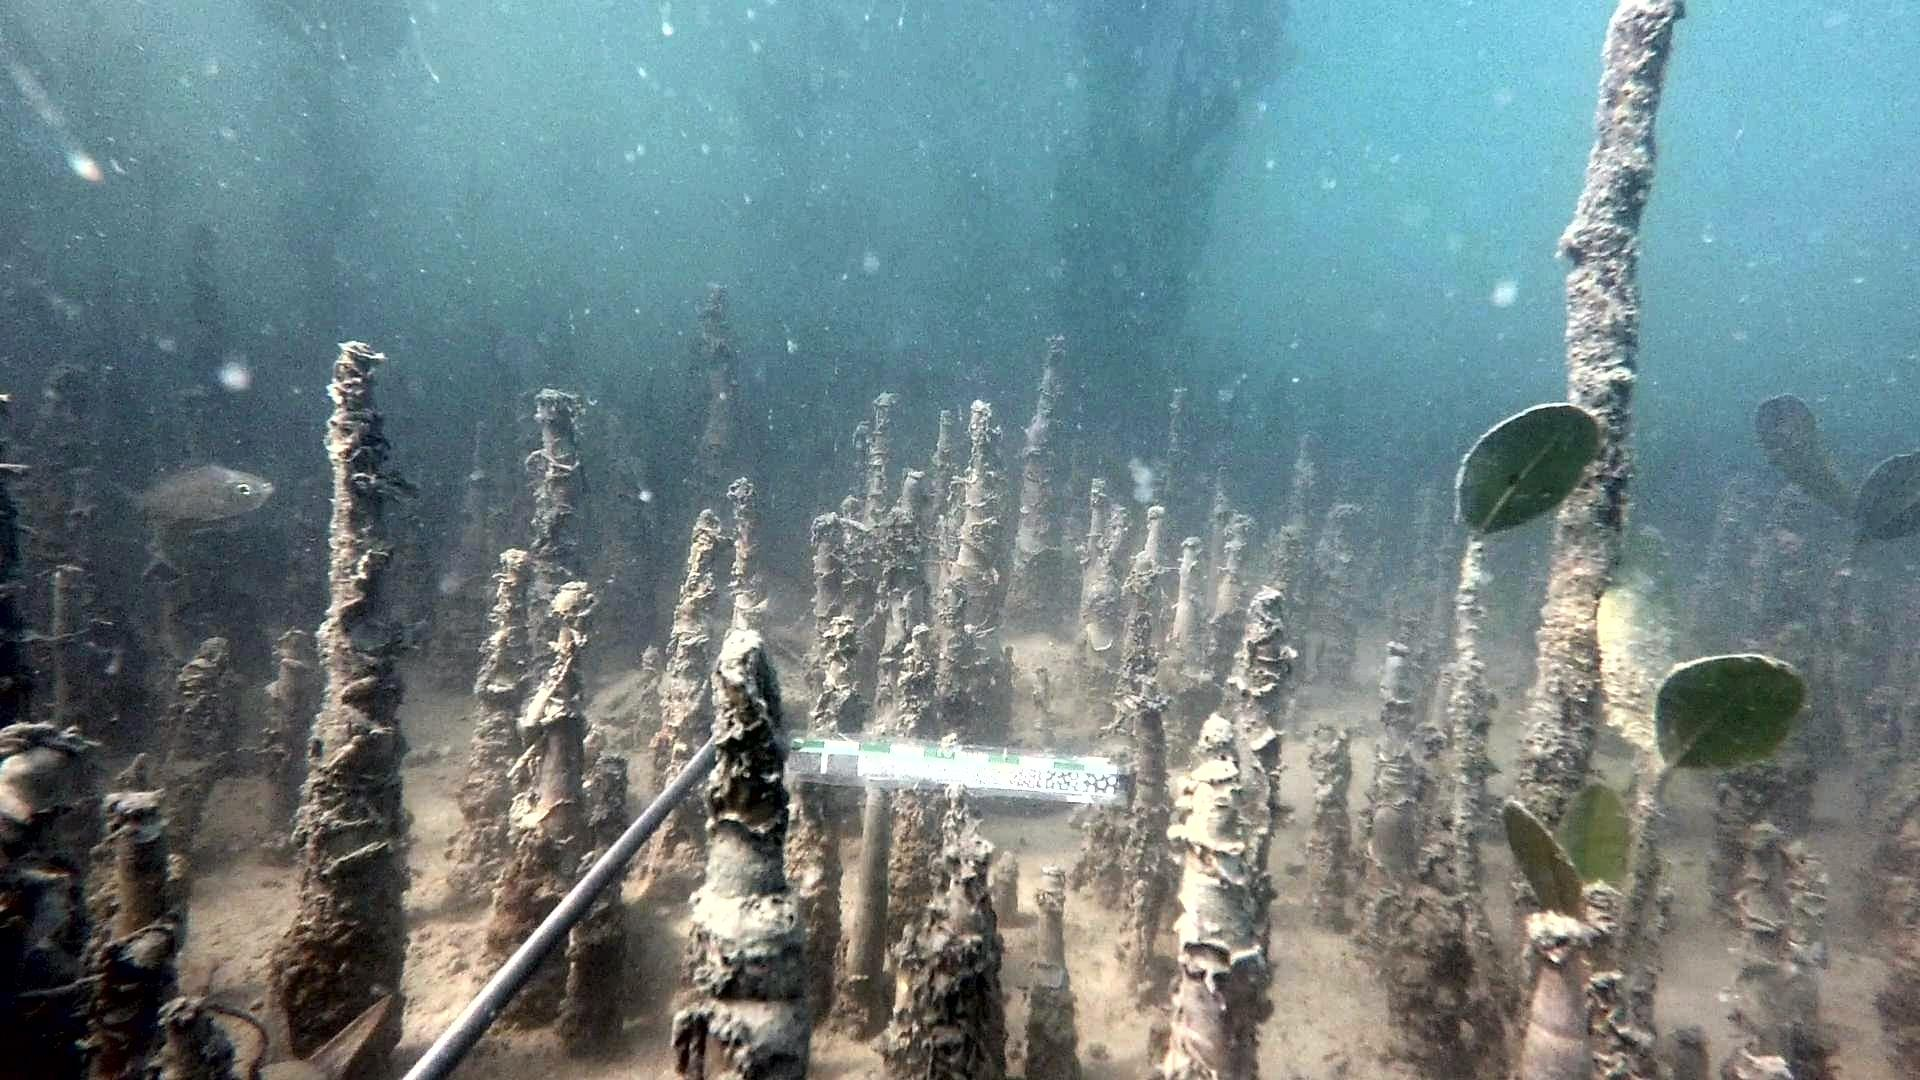gerres: (103, 446, 277, 528)
